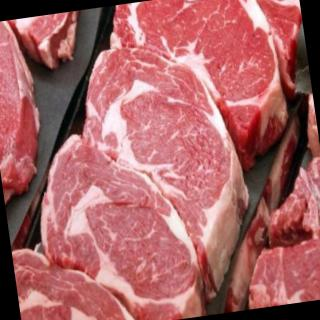Daging Sapi: (74, 34, 252, 286), (30, 121, 207, 320), (109, 1, 293, 158), (12, 236, 132, 320), (1, 18, 52, 210), (245, 235, 320, 308)
